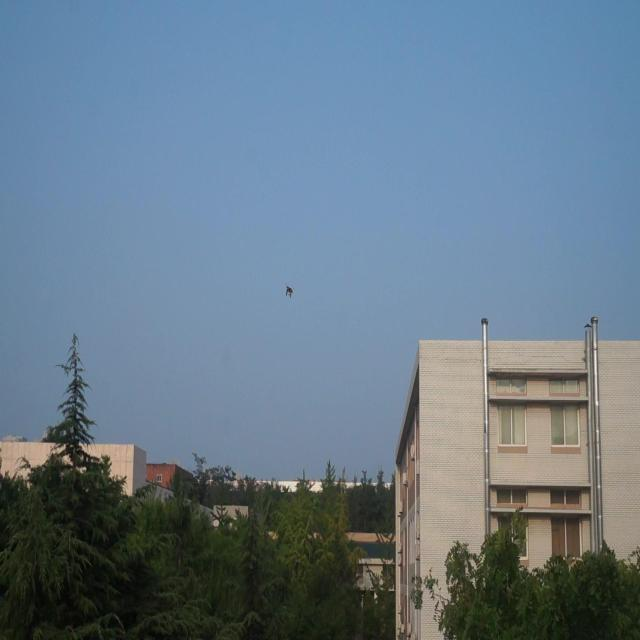drone: (284, 282, 295, 301)
